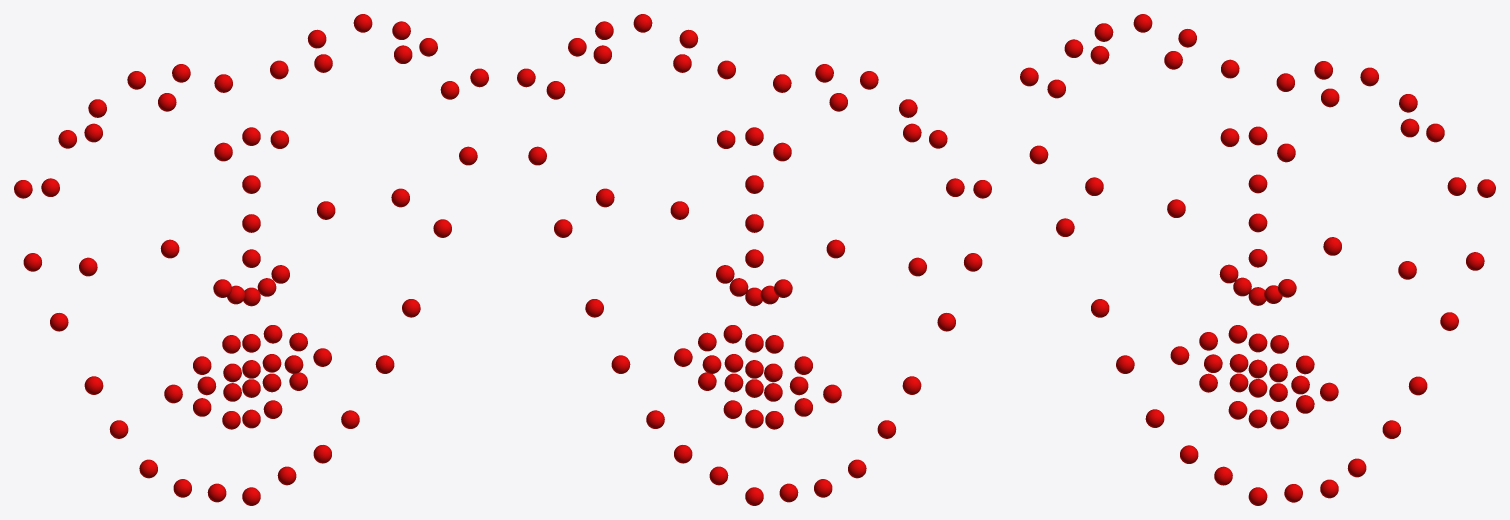
File: morph_bigEyes1.fbx
3 renders of one model, left to right at view 1: azimuth 30°, elevation 25°; view 2: azimuth 150°, elevation 25°; view 3: azimuth 330°, elevation 25°, orthographic.
Bounding box in the file's own units: 7.05 × 6.6 × 0.242.
